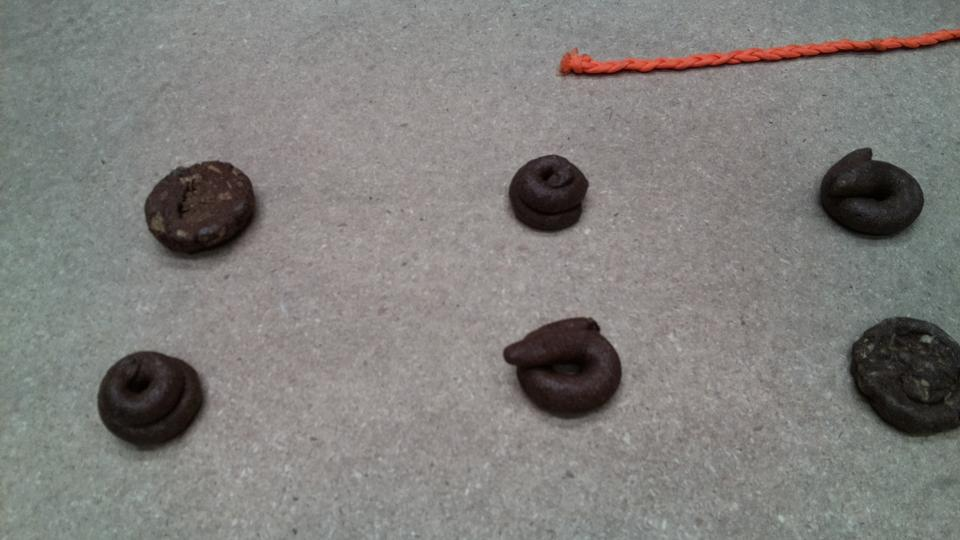poop: (845, 312, 960, 443), (500, 313, 624, 420), (92, 347, 208, 455), (141, 157, 258, 263), (815, 144, 927, 242), (506, 150, 594, 236)
rope: (554, 24, 960, 81)
